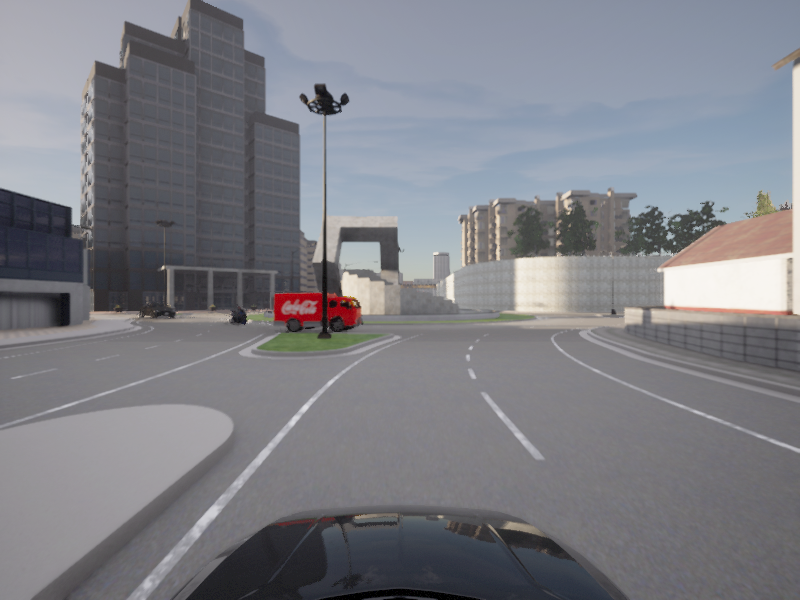vehicle: (270, 292, 364, 334), (225, 306, 251, 326)
